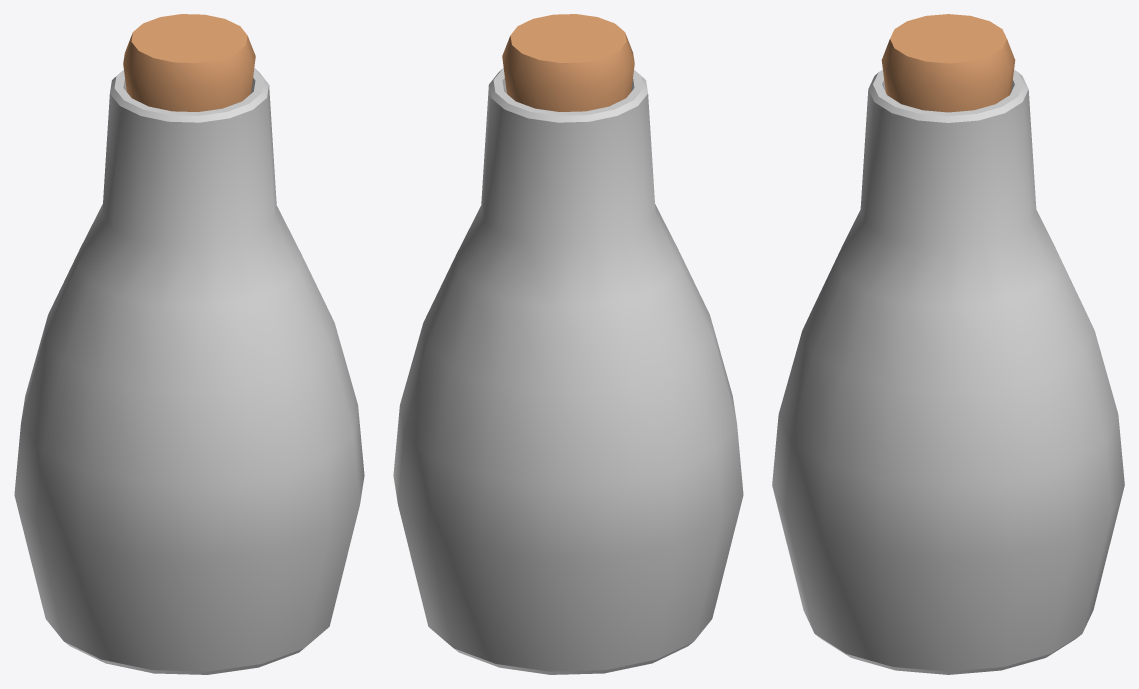
Rendered from drinkjar_large.fbx.
3 renders of one model, left to right at view 1: azimuth 30°, elevation 25°; view 2: azimuth 150°, elevation 25°; view 3: azimuth 270°, elevation 25°, orthographic.
Parts seen in each view (by area): view 1: Circle.010; view 2: Circle.010; view 3: Circle.010.
Boxes of the visible parts, x1=… form: Circle.010: x1=14, y1=14, x2=364, y2=674; Circle.010: x1=393, y1=14, x2=743, y2=674; Circle.010: x1=772, y1=14, x2=1124, y2=674.
Size of the model in its own units: 0.2699 by 0.488 by 0.2699.
